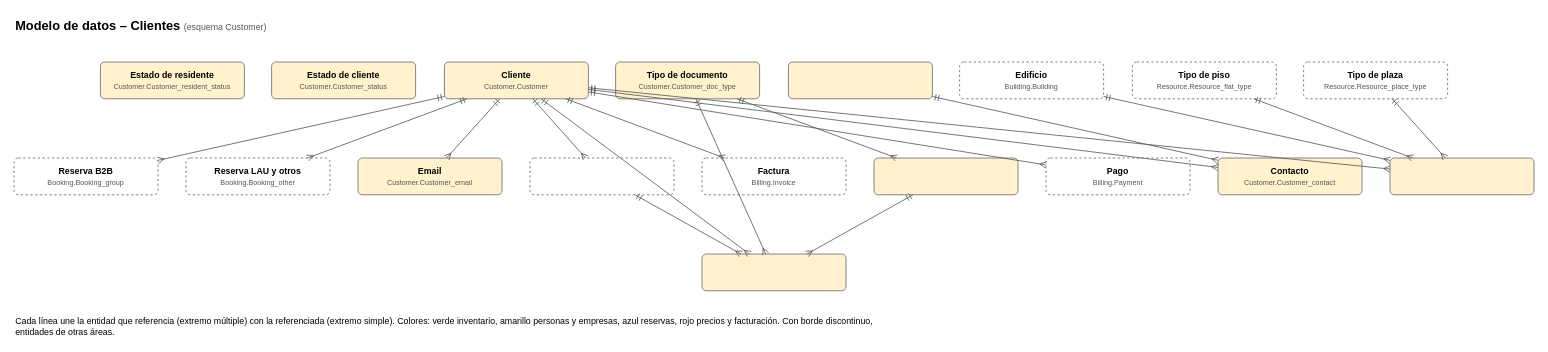
Some shapes in this 1548 by 352 pixel diagram are drawn without their labels. Here are the shapes that lost their labels. From the top down, the centre of each, then its label:
At (x=860, y=80): "Tipo de contacto Customer.Customer_contact_type".
At (x=601, y=176): "Reserva B2C Booking.Booking".
At (x=945, y=176): "Opción Customer.Customer_doc_option".
At (x=1461, y=176): "Favorito Customer.Customer_fav".
At (x=773, y=272): "Documento de cliente Customer.Customer_doc".
